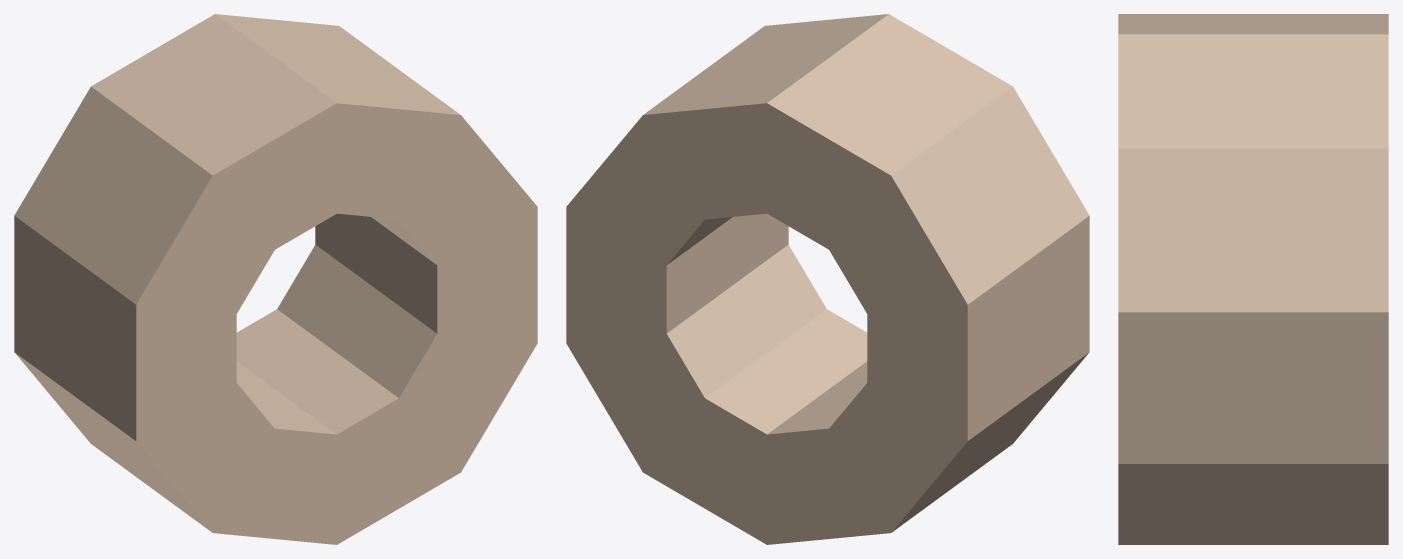
The model's file is wheel2.glb.
3 views of the same model, side by side, from view 1: azimuth 30°, elevation 25°; view 2: azimuth 150°, elevation 25°; view 3: azimuth 270°, elevation 25° (orthographic). The views are drawn at different scales.
Visible parts, largest first — view 1: Mesh_Mesh_head_geo.001_lambert2SG.001; view 2: Mesh_Mesh_head_geo.001_lambert2SG.001; view 3: Mesh_Mesh_head_geo.001_lambert2SG.001.
Part boxes in pixels (x1,y1,x2,y2): Mesh_Mesh_head_geo.001_lambert2SG.001: [14, 14, 537, 544]; Mesh_Mesh_head_geo.001_lambert2SG.001: [566, 14, 1089, 544]; Mesh_Mesh_head_geo.001_lambert2SG.001: [1118, 14, 1388, 544].
Size of the model in its own units: 0.0038 by 0.004 by 0.002.
